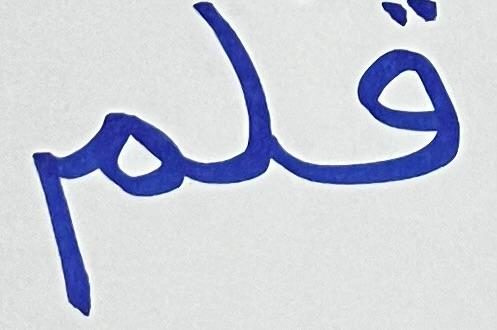dal: (192, 0, 298, 192)
meem: (12, 93, 190, 317)
qaf: (303, 0, 474, 194)
